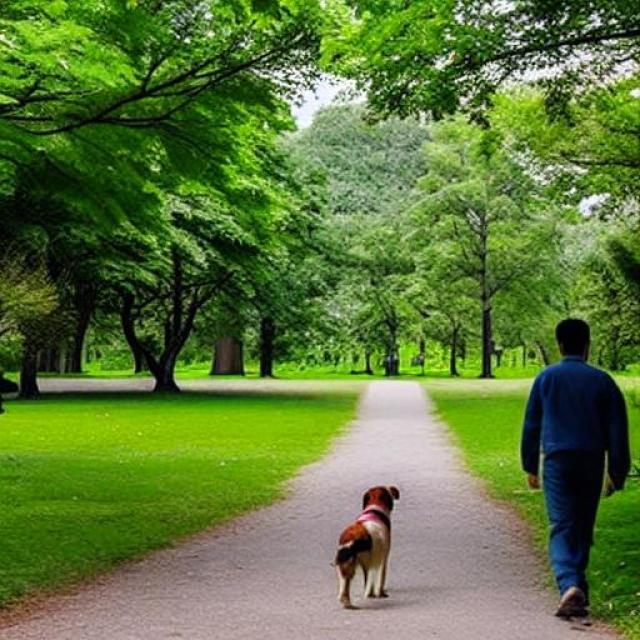Unleashed_Dog: (330, 446, 624, 610)
